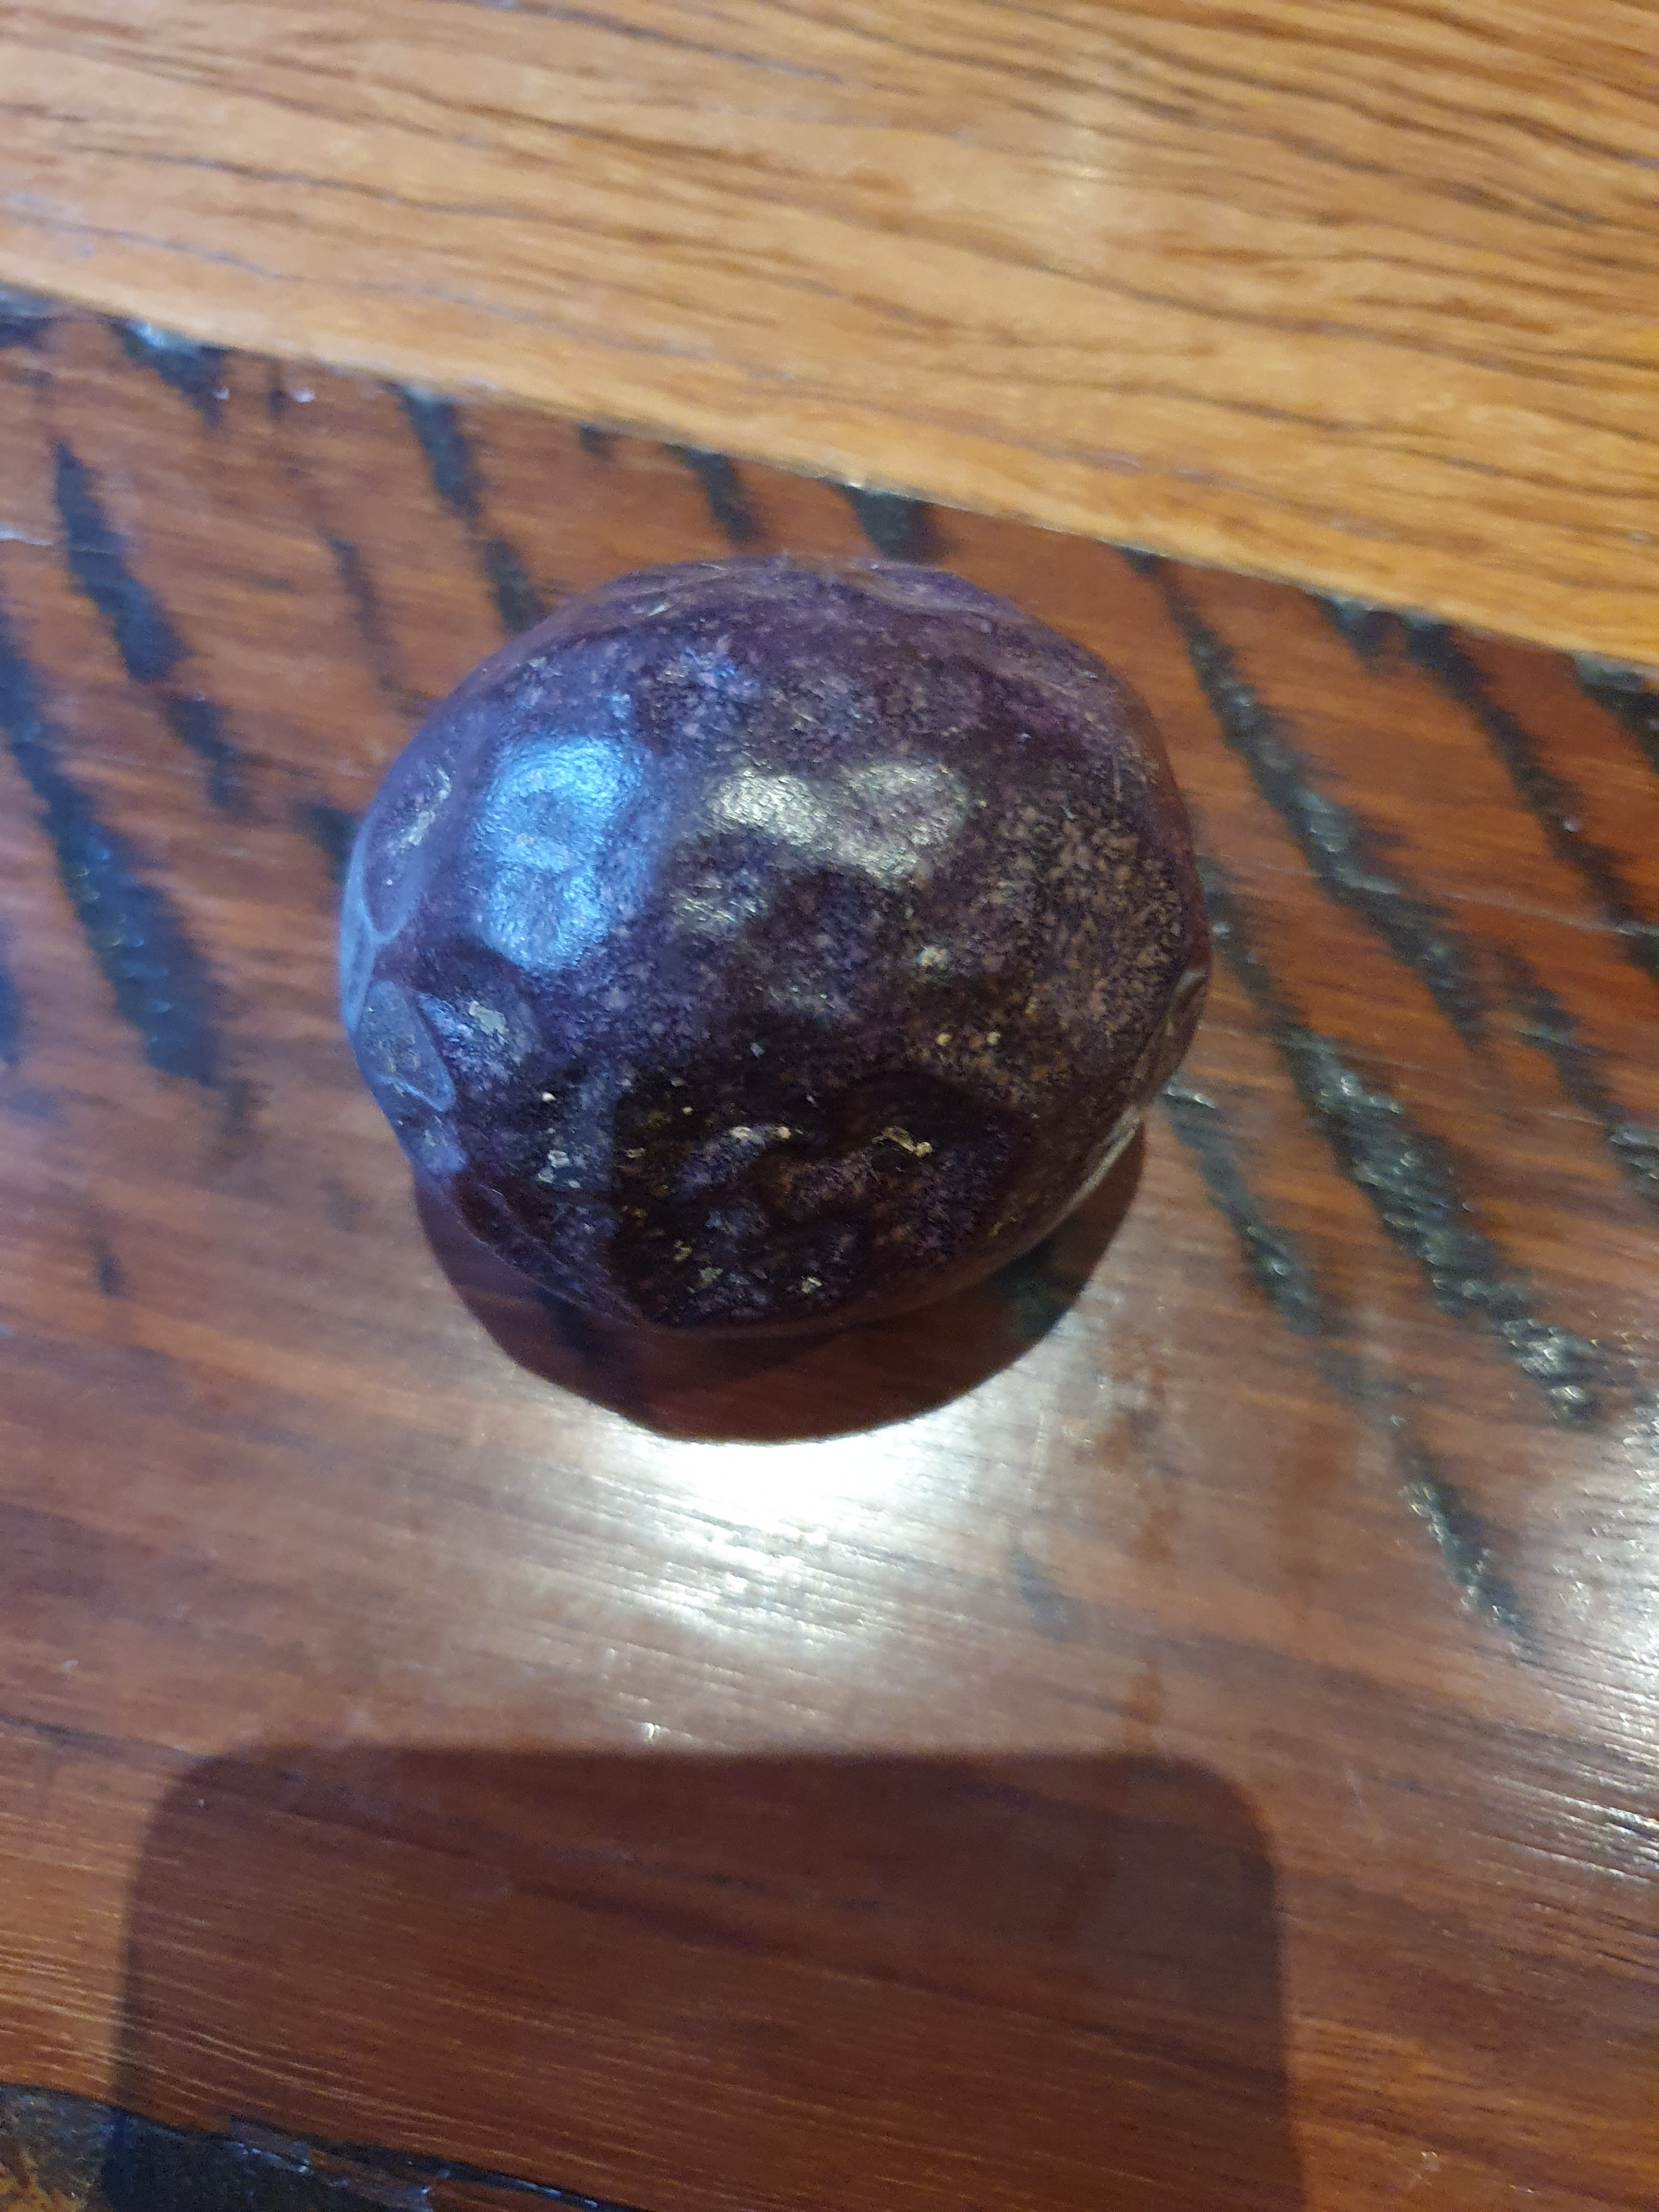passionfruit: (308, 564, 1208, 1374)
